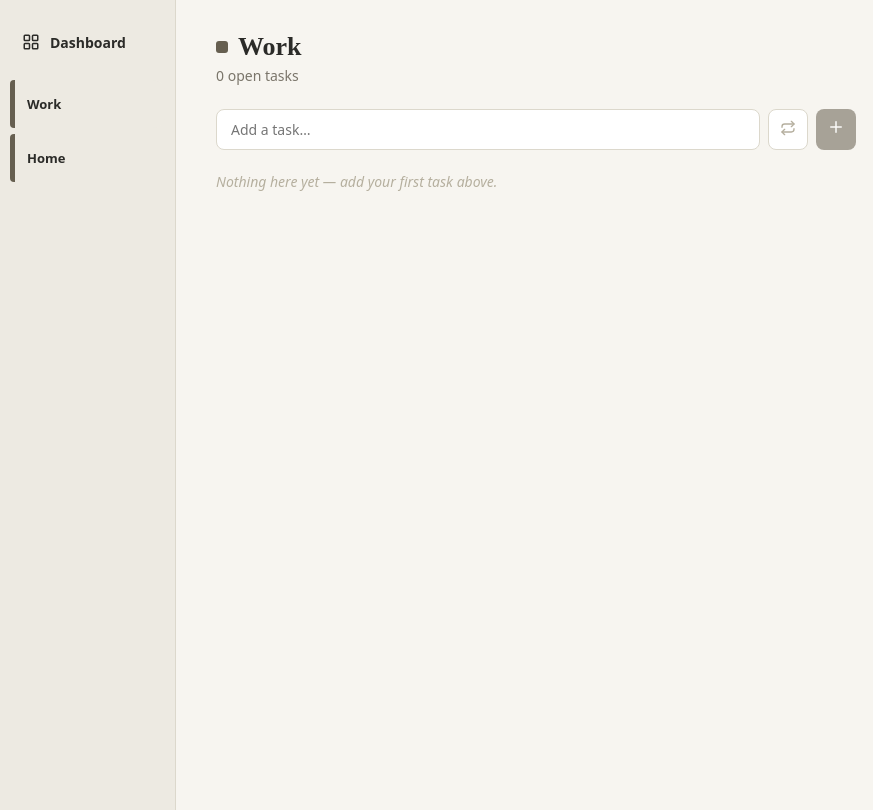
list navigation › handles encoded IDs and normalizes numeric list IDs
Expected: the heading "Work" is shown, [238,32,302,62]
Step 1. Click the button titled "Home" → (88, 158), box [10,134,165,182]
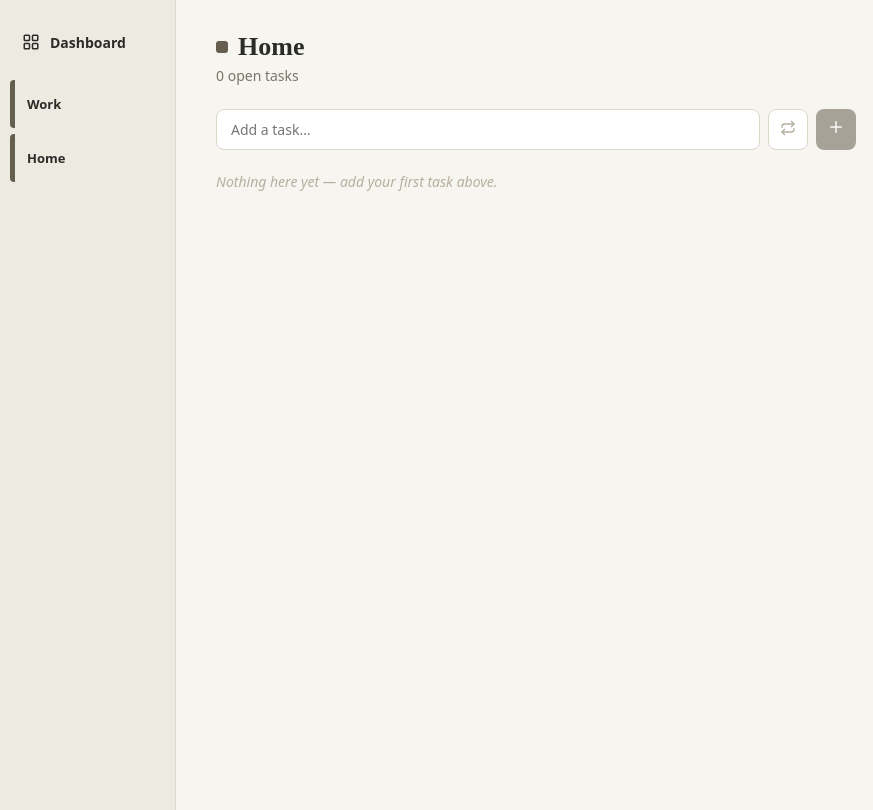
Expected: the heading "Home" is shown, [238,32,304,62]
